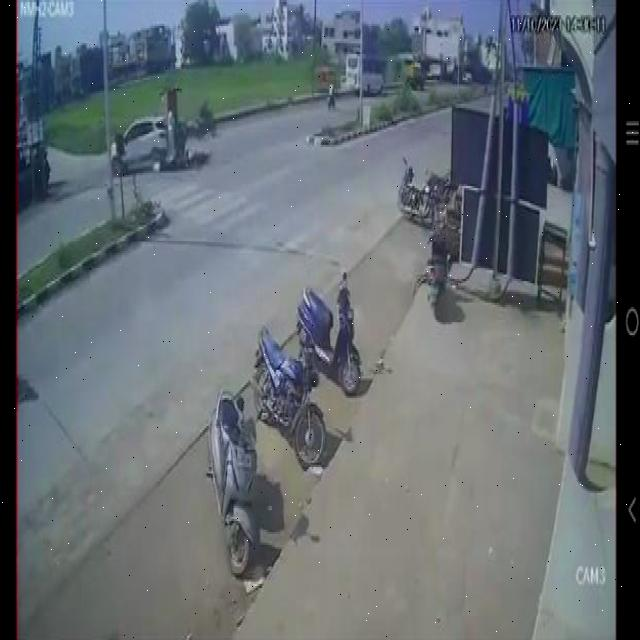accident: (105, 107, 217, 189)
